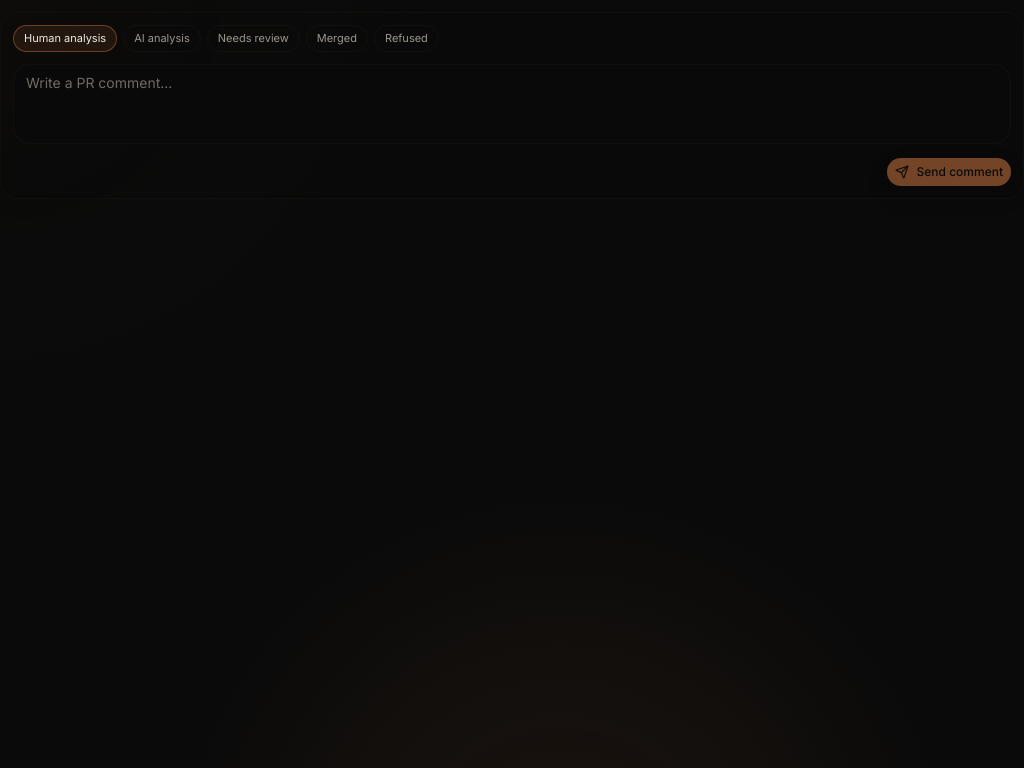
Test: PullRequestCommentComposer › shows feedback after successful submit
Type "LGTM" into the text box with placeholder "Write a PR comment...". click: (512, 104)
box: [13,64,1011,144]
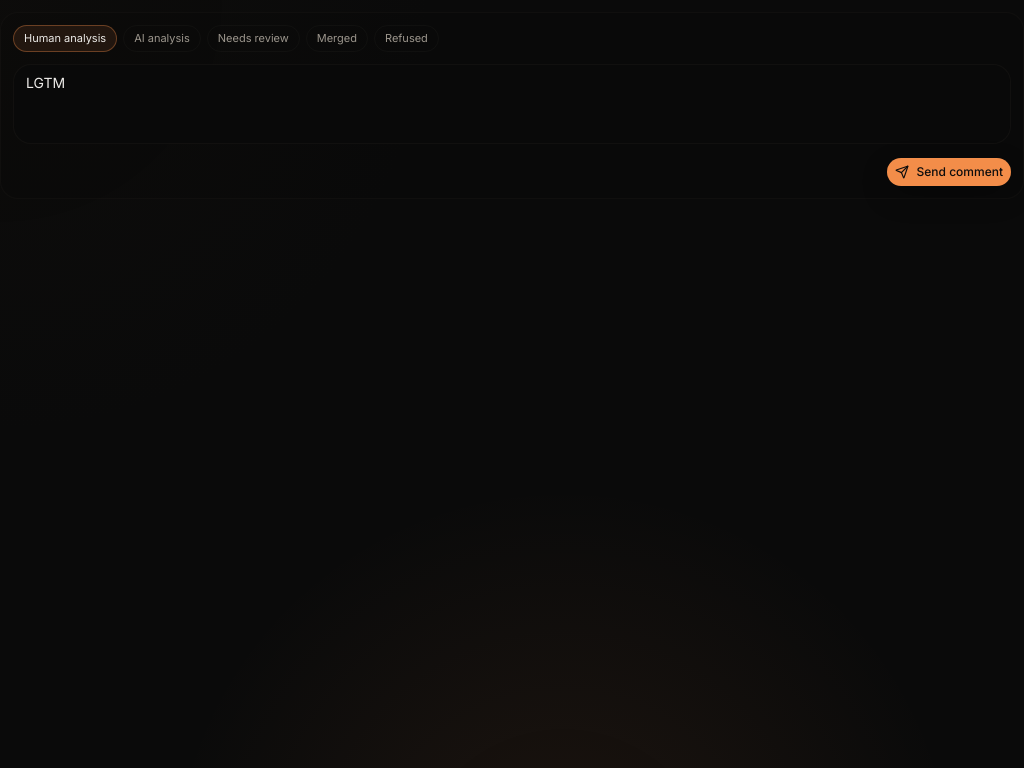
Click the button "Send comment". click: (949, 172)
box: [886,158,1011,186]
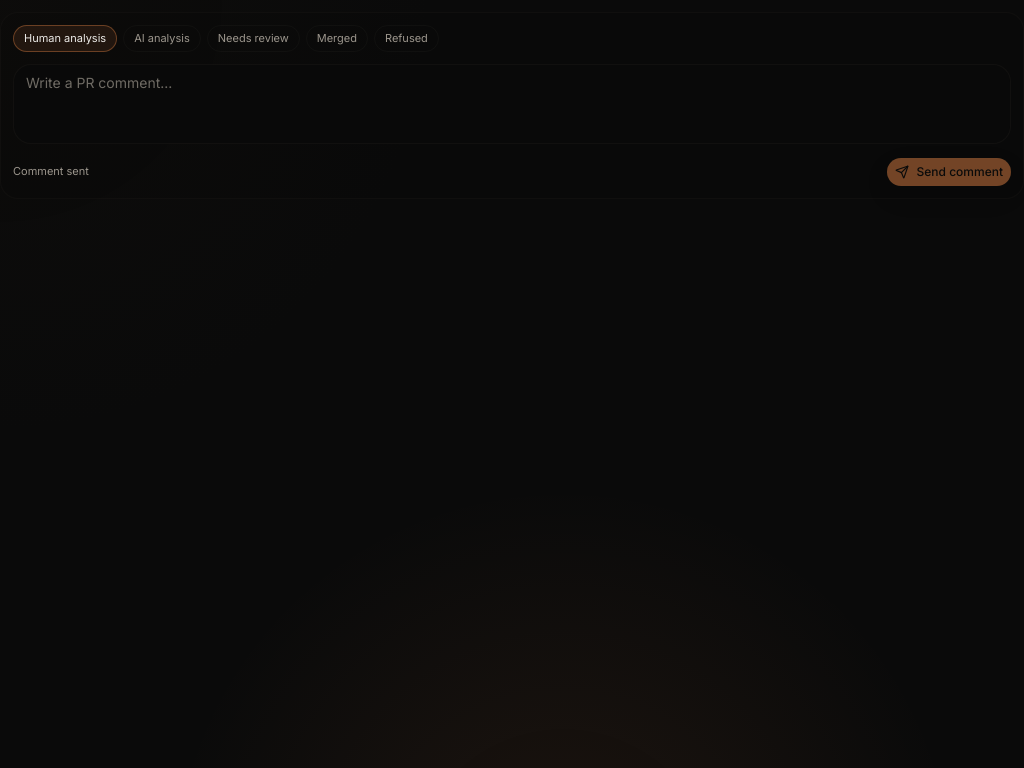
expect the text "Comment sent" is shown: met, box [13,163,89,180]
